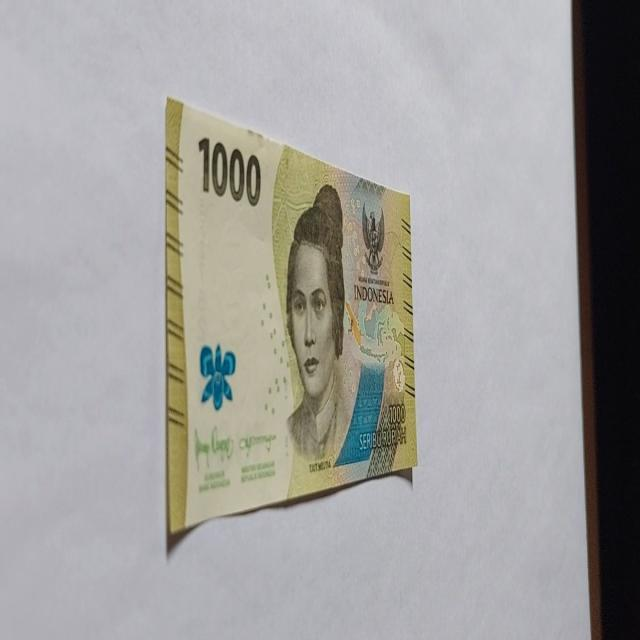seribu rupiah kertas: (165, 95, 416, 539)
